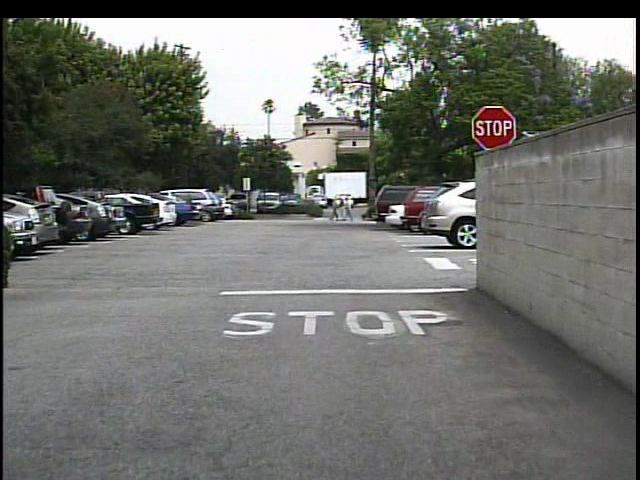person: (325, 197, 340, 224), (340, 197, 354, 225)
